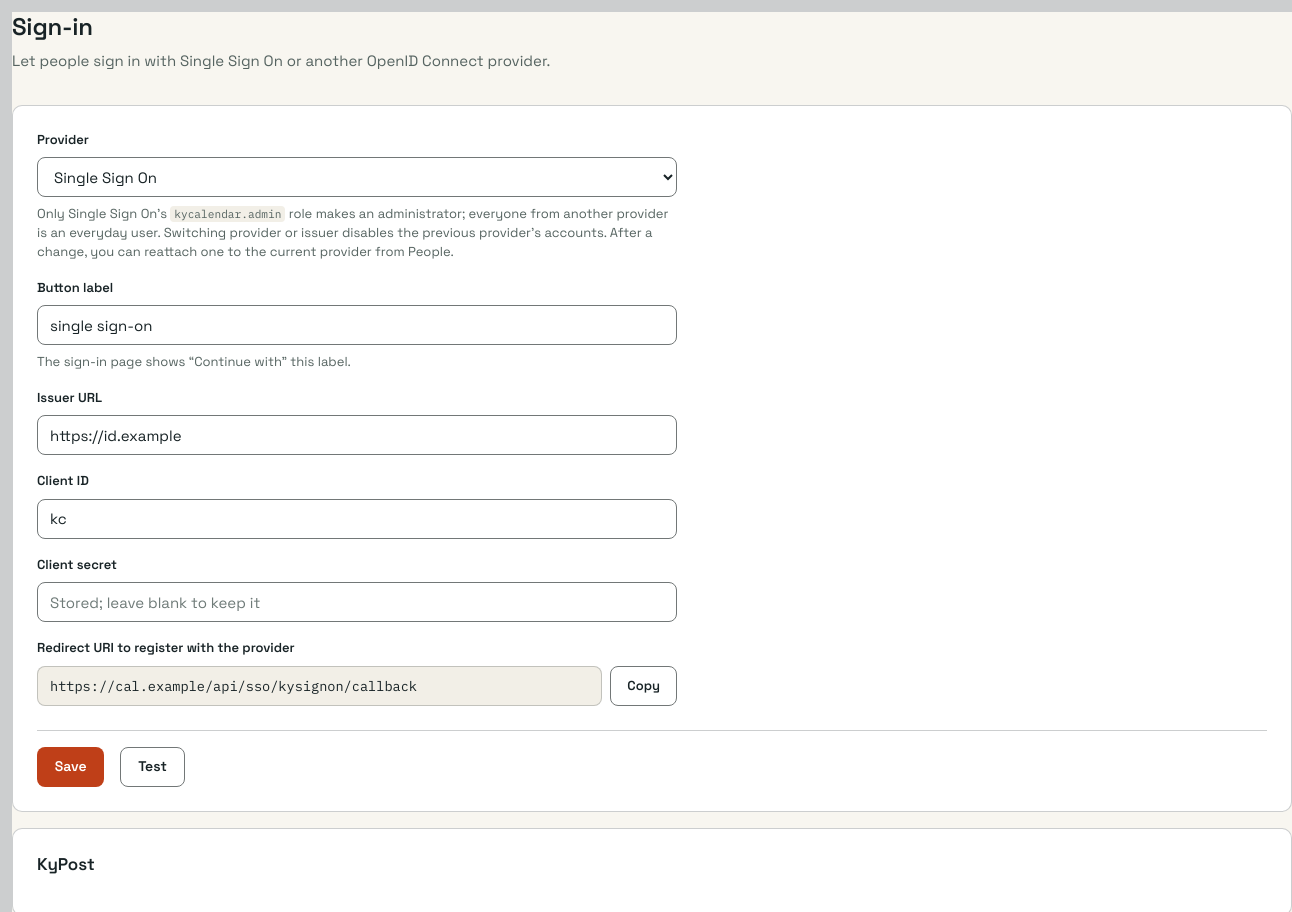
Test case: SignIn › states how many accounts a provider change disables before saving
Select "Another OpenID Connect provider" in the dropdown labelled "Provider" at (357, 177), box [37,157,677,197]
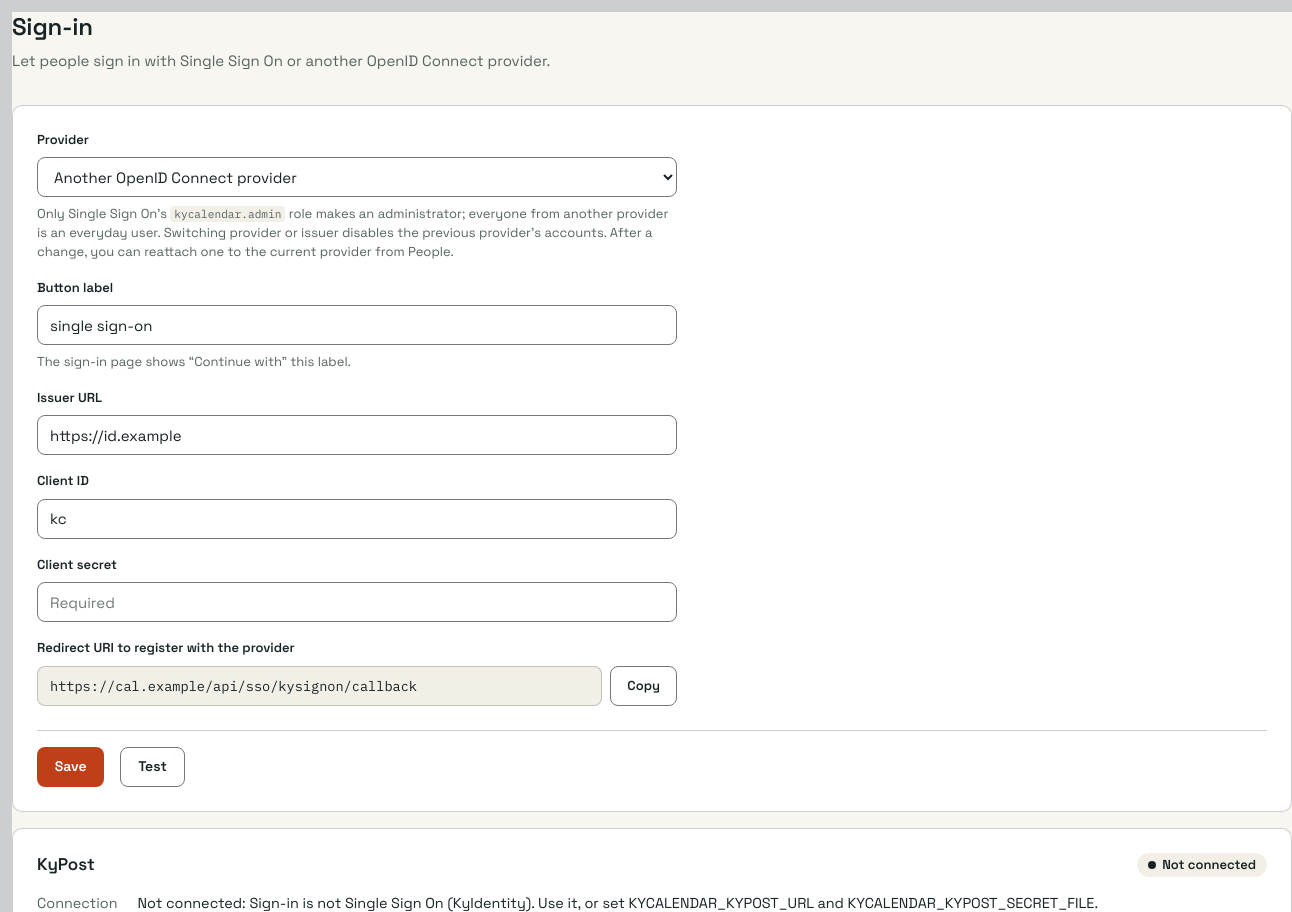
Replace the text in the field labelled "Button label" with "Acme" at (357, 325), box [37,305,677,345]
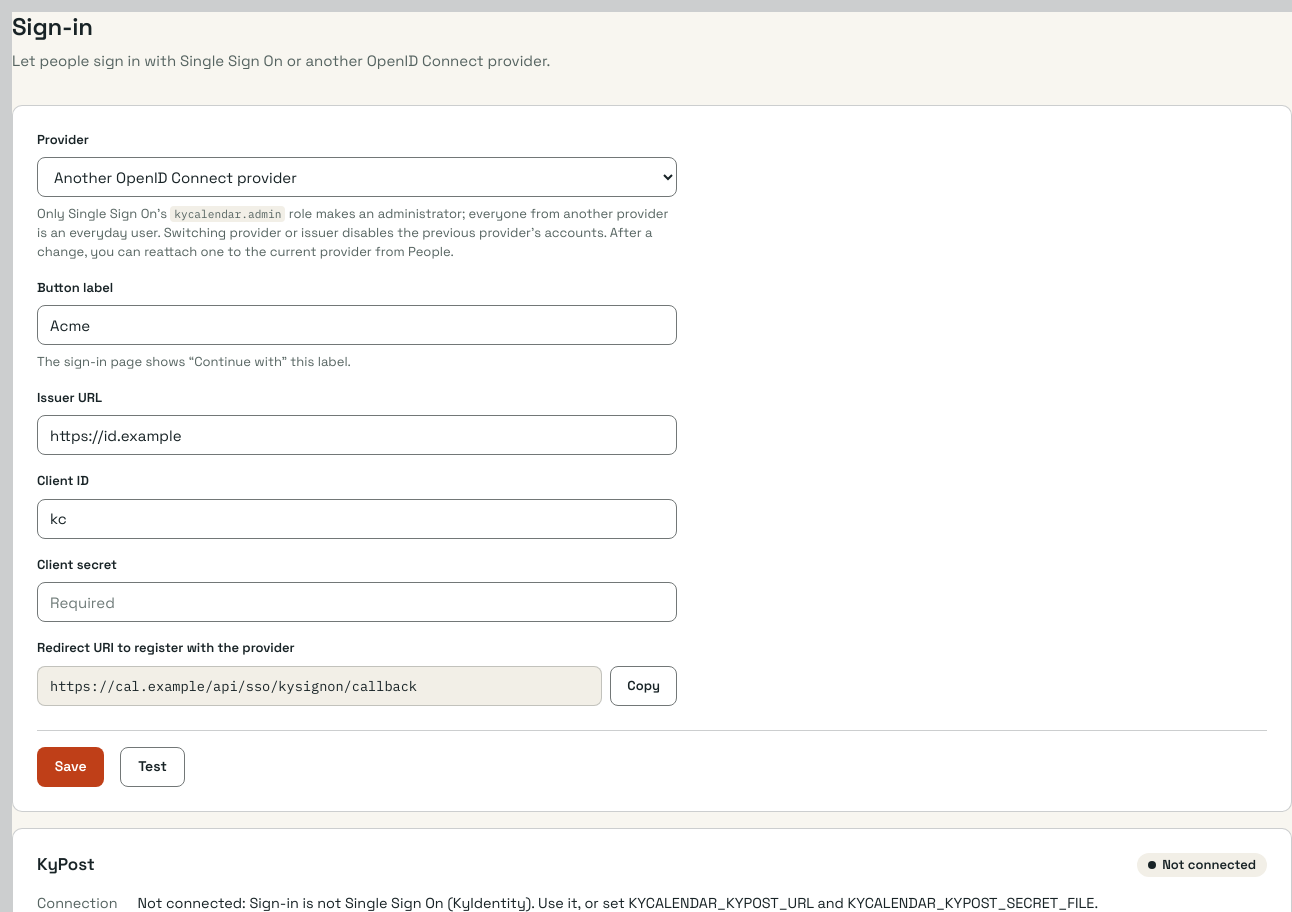
Type "s3cret" into the password field labelled "Client secret" at (357, 602), box [37,582,677,622]
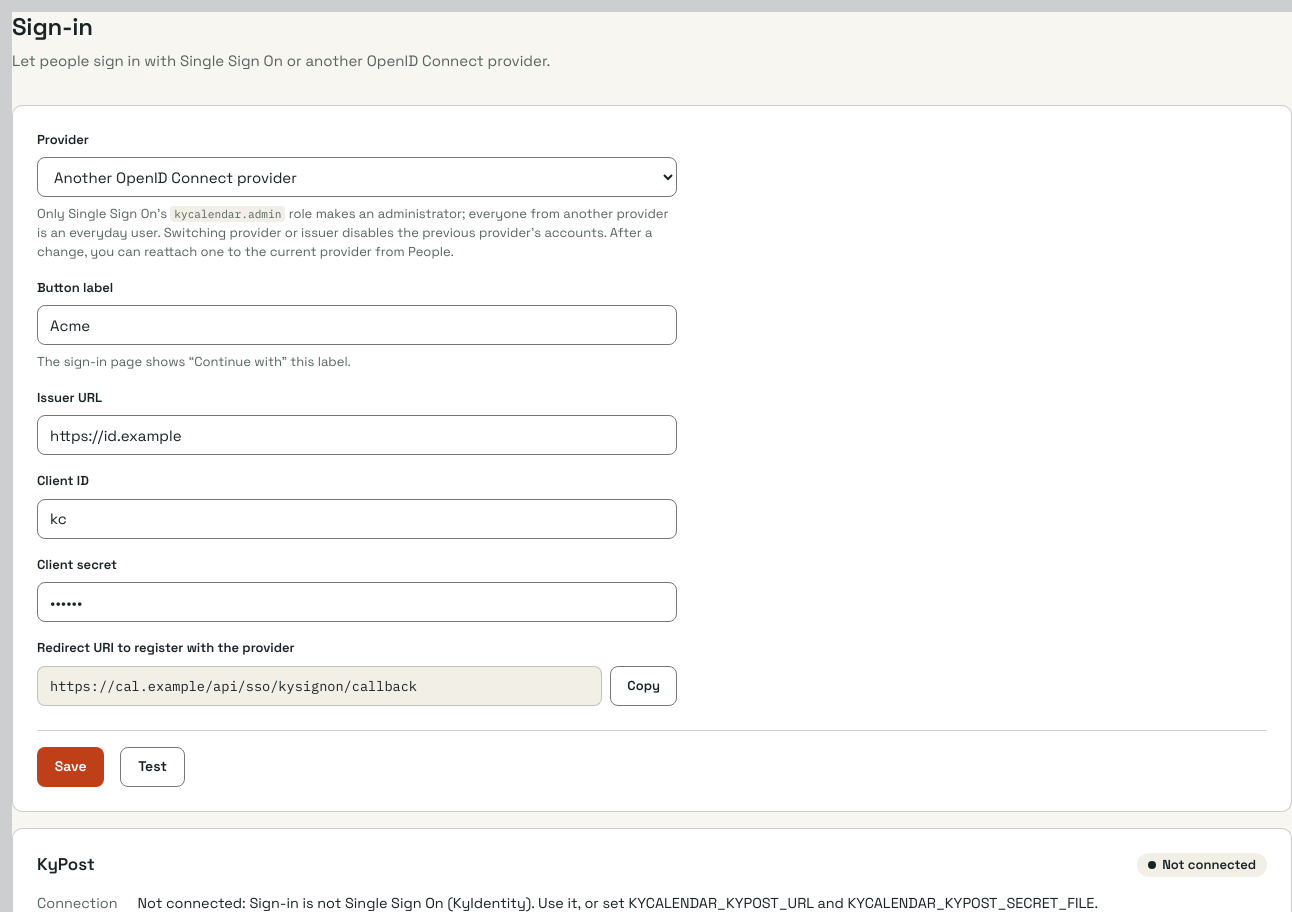
Click the button "Save" at (71, 767), box [37,747,104,787]
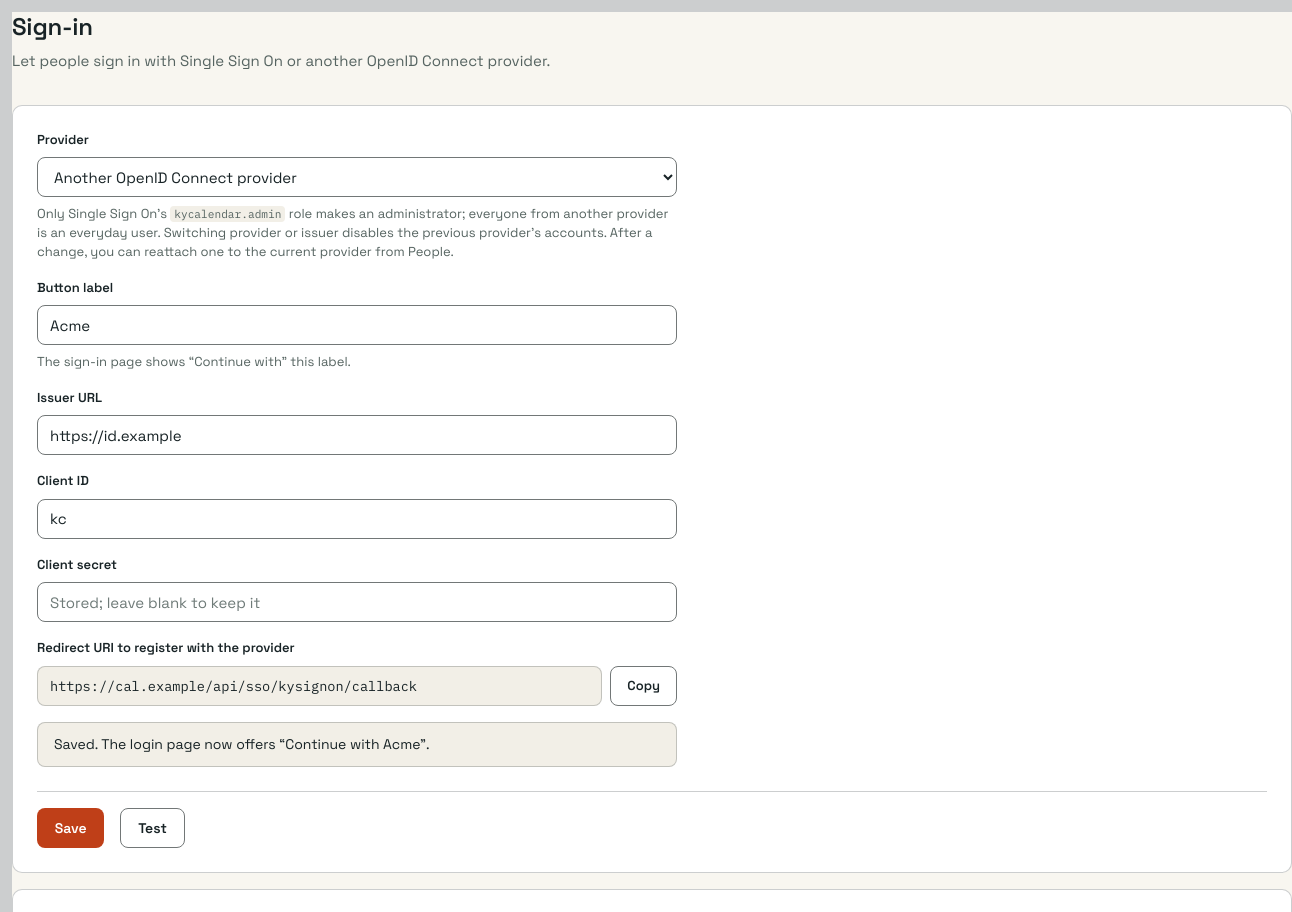
Expected: the message shows "Continue with Acme", [54,735,430,753]
